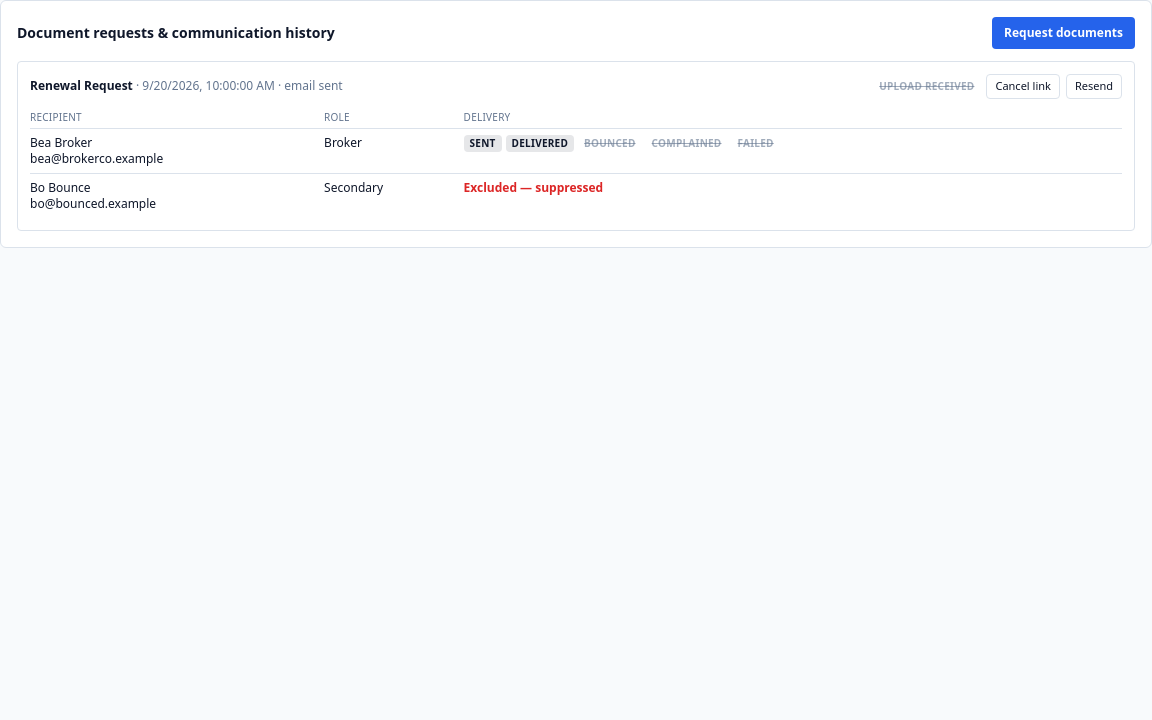
Test case: Request documents › shows delivery outcomes in history and resends with editable recipients
Later steps or results of the test are not shown.
Expected: the text "Excluded — suppressed" is shown, 464,179 -> 603,196
Expected: the text named "Delivered: yes" is shown, 506,135 -> 574,152
Click the button "Resend" at (1094, 86), box 1066,74 -> 1122,99
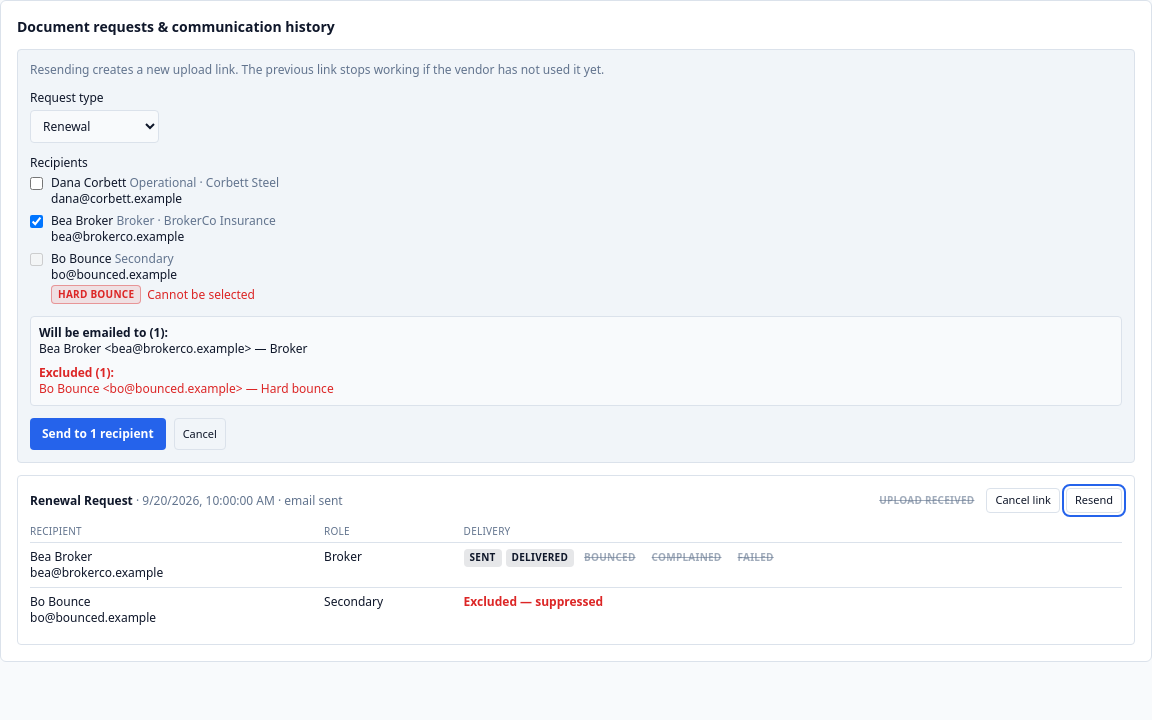
Now the checkbox labelled "Bea Broker Broker · BrokerCo Insurance bea@brokerco.example" is checked, box 30,215 -> 43,228
Now the checkbox labelled "Bo Bounce" is not checked, box 30,253 -> 43,266
